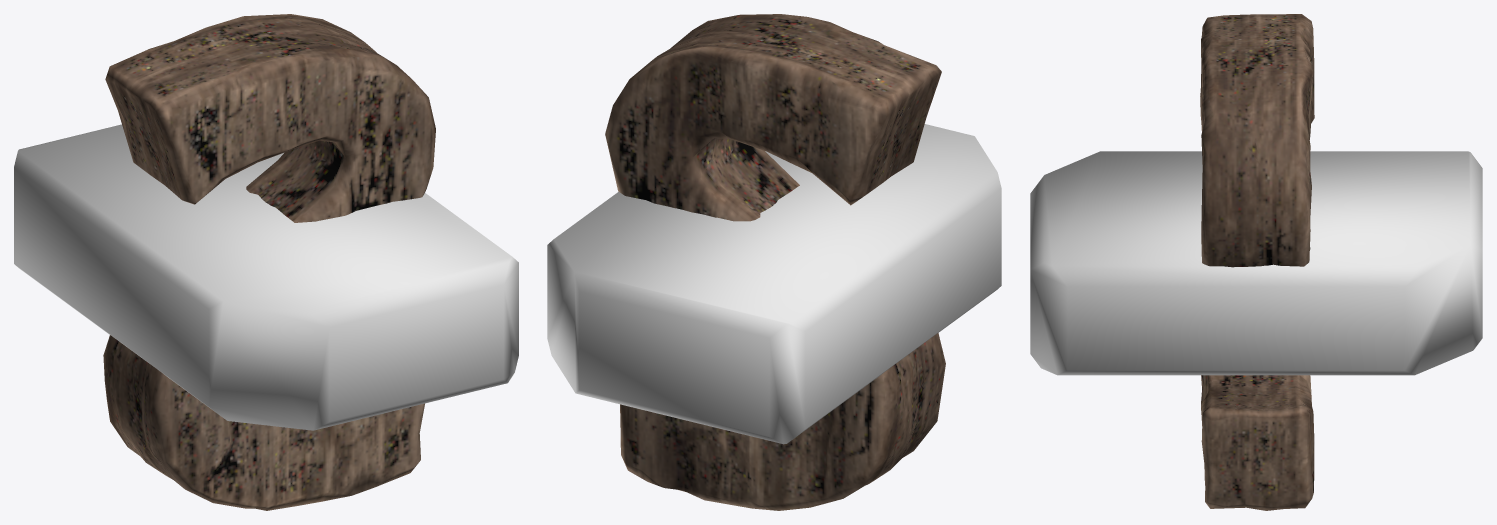
File: SM_DRUNKEN_SKULL_S.fbx
3 views of the same model, side by side, from view 1: azimuth 30°, elevation 25°; view 2: azimuth 150°, elevation 25°; view 3: azimuth 270°, elevation 25° (orthographic). The views are drawn at different scales.
Parts seen in each view (by area): view 1: SM_DRUNKEN_SKULL_S_ConvexHulls, SM_DRUNKEN_SKULL_S; view 2: SM_DRUNKEN_SKULL_S_ConvexHulls, SM_DRUNKEN_SKULL_S; view 3: SM_DRUNKEN_SKULL_S_ConvexHulls, SM_DRUNKEN_SKULL_S.
Part boxes in pixels (bbox=[...]): SM_DRUNKEN_SKULL_S_ConvexHulls: bbox=[14, 124, 518, 430]; SM_DRUNKEN_SKULL_S: bbox=[103, 14, 435, 510]; SM_DRUNKEN_SKULL_S_ConvexHulls: bbox=[547, 124, 1001, 444]; SM_DRUNKEN_SKULL_S: bbox=[605, 14, 945, 510]; SM_DRUNKEN_SKULL_S_ConvexHulls: bbox=[1030, 151, 1482, 375]; SM_DRUNKEN_SKULL_S: bbox=[1200, 14, 1314, 510].
Size of the model in its own units: 0.5664 by 0.8609 by 0.8629.
